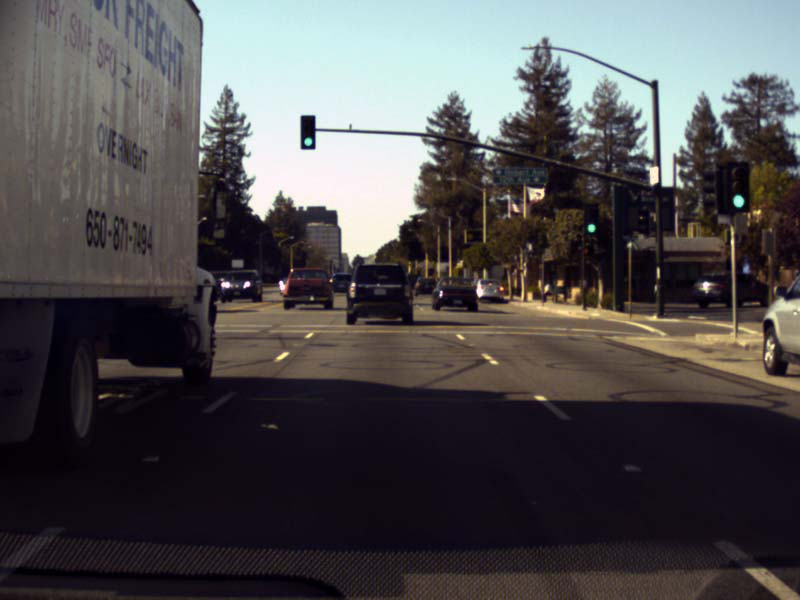Green: (730, 166, 749, 211), (300, 113, 313, 150), (584, 203, 597, 235)
